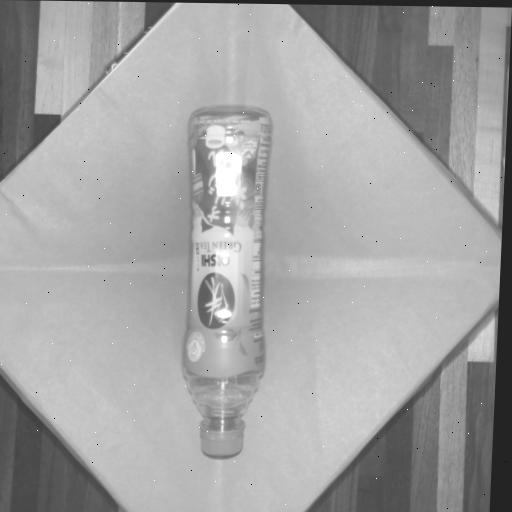bottle: (175, 107, 280, 460)
